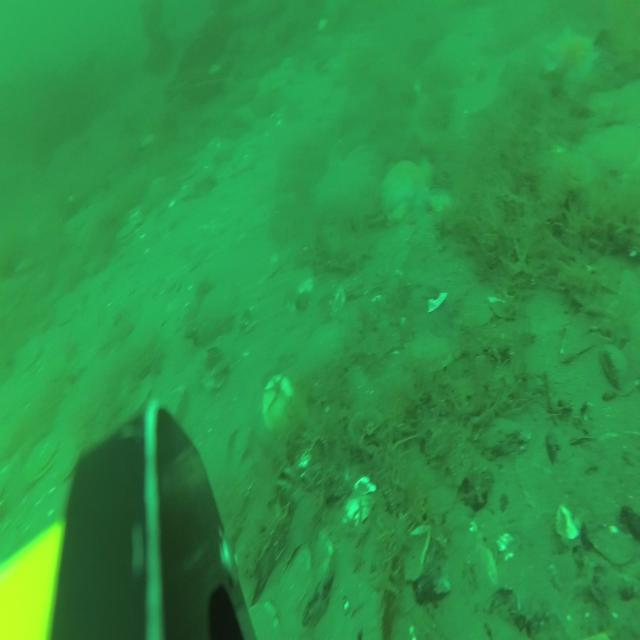scallop: (261, 373, 296, 434), (24, 432, 60, 484), (117, 222, 136, 245)
starfish: (378, 157, 433, 218), (542, 26, 595, 83)
